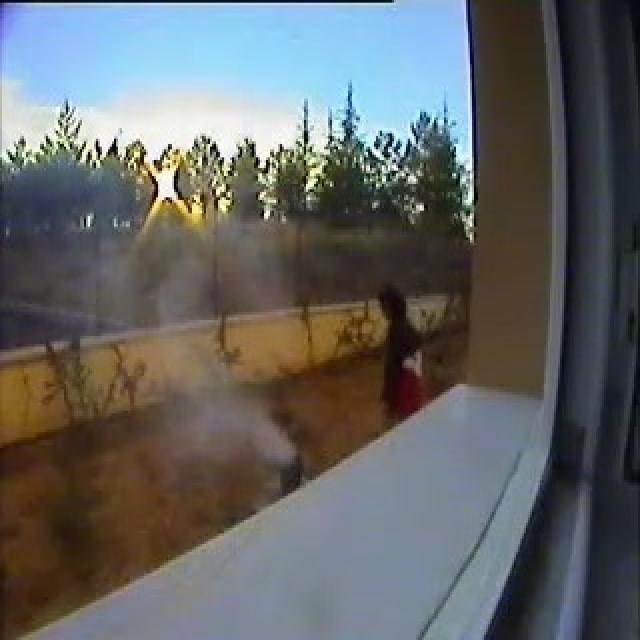smoke: (208, 395, 295, 473)
